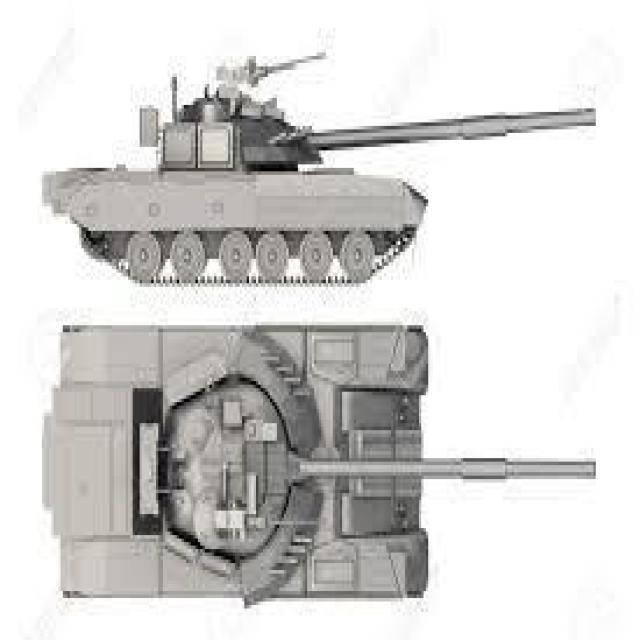MIL_MBT: (38, 299, 592, 603), (44, 38, 593, 290)
